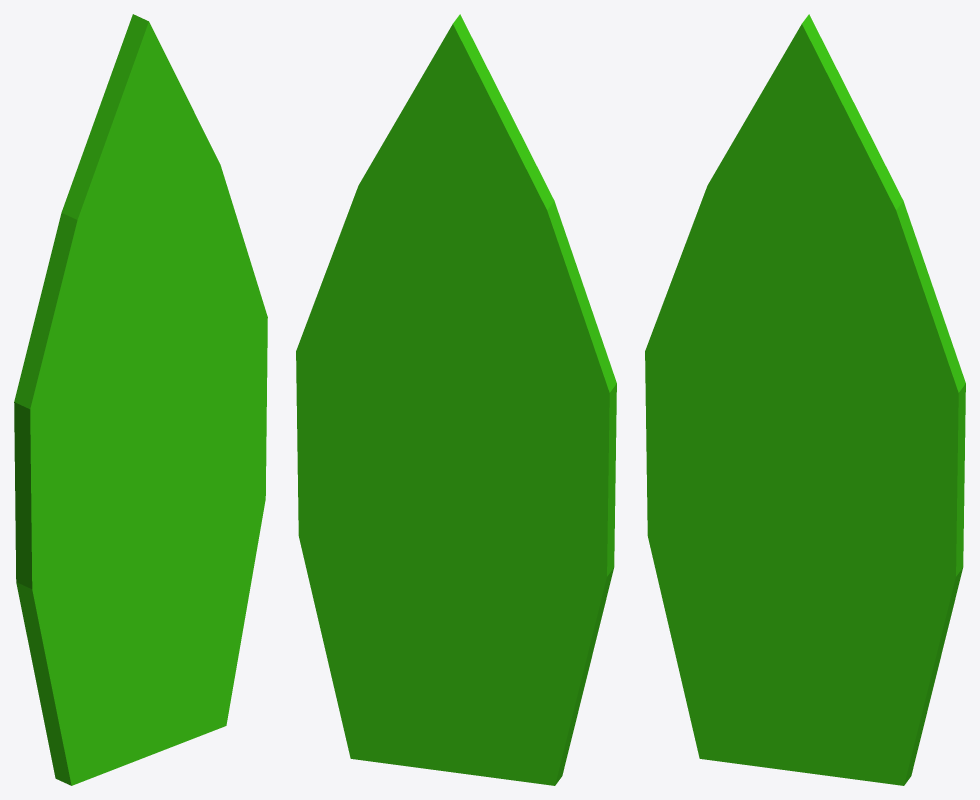
The model's file is Rigged Grass Export 47.fbx.
3 renders of one model, left to right at view 1: azimuth 30°, elevation 25°; view 2: azimuth 150°, elevation 25°; view 3: azimuth 330°, elevation 25°, orthographic.
Visible parts, largest first — view 1: Grass 2 Right Left 1; view 2: Grass 2 Right Left 1; view 3: Grass 2 Right Left 1.
Boxes of the visible parts, x1,y1,x2,y2 form: Grass 2 Right Left 1: (14,14,267,785); Grass 2 Right Left 1: (296,14,616,785); Grass 2 Right Left 1: (645,14,965,785).
Bounding box in the file's own units: 139 × 353 × 40.62.
